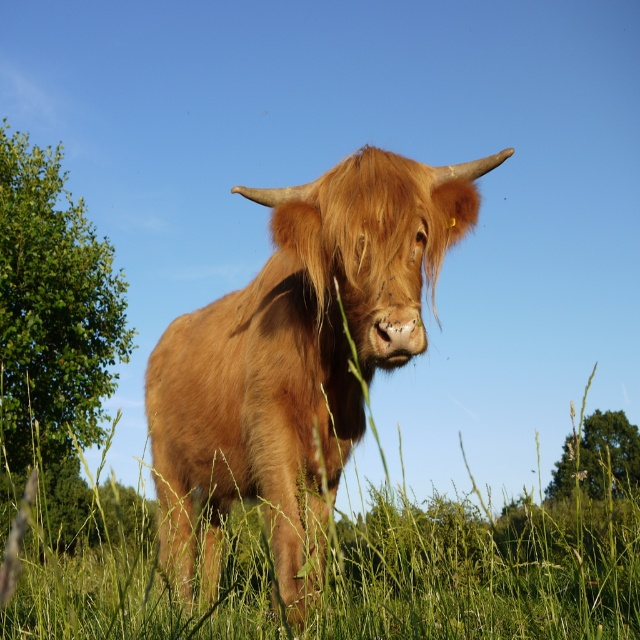Cattle: (143, 139, 515, 635)
